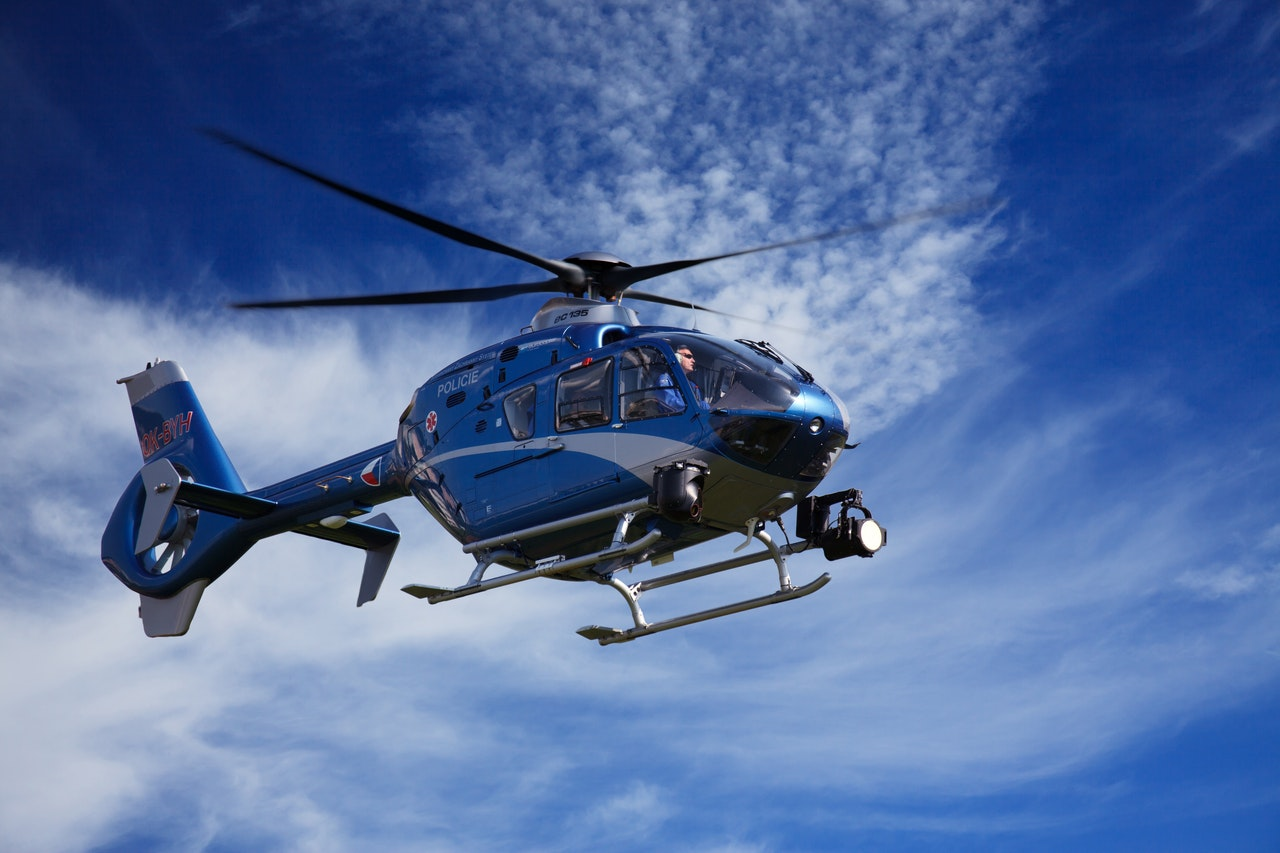heli: (101, 125, 885, 647)
